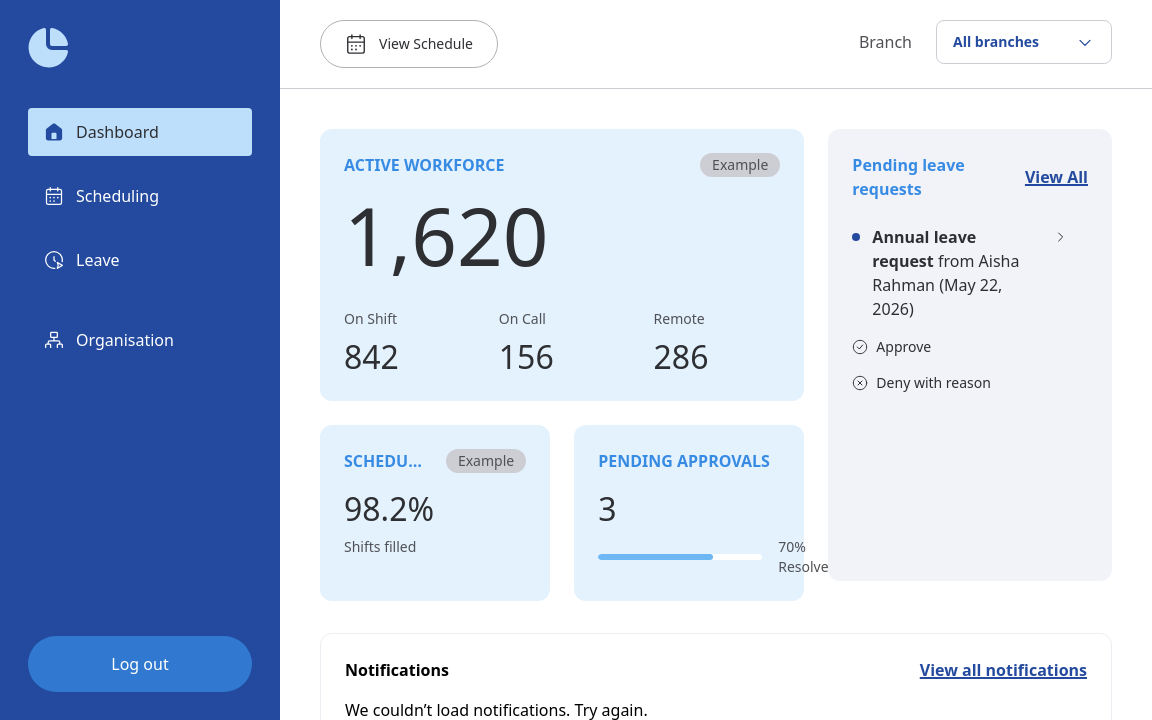
Test: Dashboard › given_aPendingRequest_when_approved_then_confirmsIt
expect the text "from Aisha Rahman" is shown: met, box [872,250,1020,320]
Click the button "Approve" at (892, 347), box [852,337,931,357]
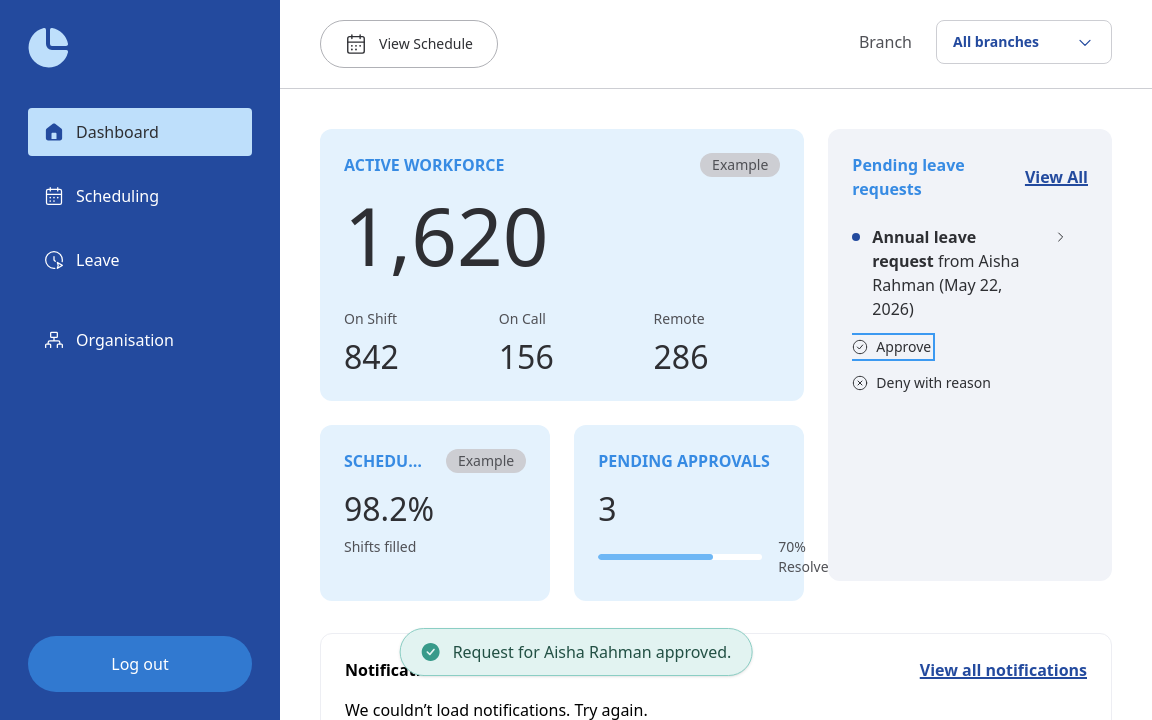
expect the message "Request for Aisha Rahman approved." is shown: met, box [400,628,752,676]
